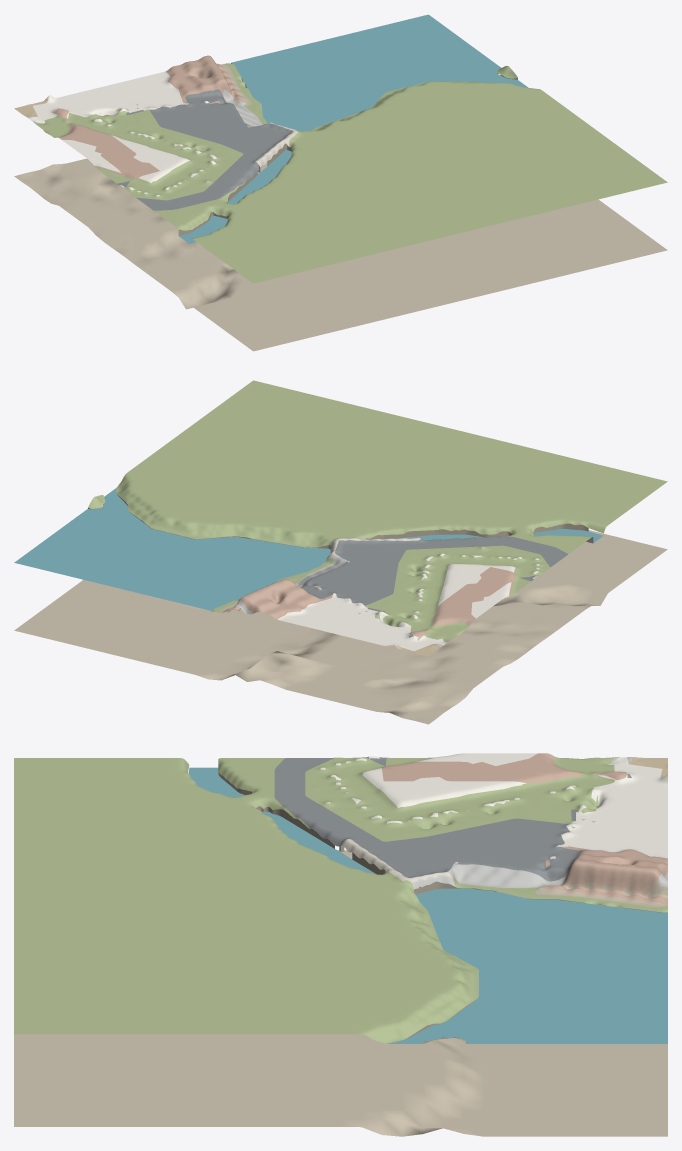
The picture shows the model from 3 angles, top to bottom: view 1: azimuth 30°, elevation 25°; view 2: azimuth 150°, elevation 25°; view 3: azimuth 270°, elevation 25°; orthographic projection. The views are drawn at different scales.
Visible parts, largest first — view 1: s_2_0__grass, s_2_0__soil, s_2_0__water, s_2_0__asphalt, s_2_0__white_marking, s_2_0__brick_paving; view 2: s_2_0__grass, s_2_0__soil, s_2_0__water, s_2_0__asphalt, s_2_0__white_marking, s_2_0__brick_paving, s_2_0__shore_bank, s_2_0__stone_paving; view 3: s_2_0__grass, s_2_0__soil, s_2_0__water, s_2_0__asphalt, s_2_0__white_marking, s_2_0__brick_paving, s_2_0__stone_paving, s_2_0__shore_bank, s_2_0__paving.
Part boxes in pixels (x1,y1,x2,y2): s_2_0__grass: (33,63,667,283); s_2_0__soil: (14,64,667,351); s_2_0__water: (179,14,528,243); s_2_0__asphalt: (58,89,292,210); s_2_0__white_marking: (29,71,216,196); s_2_0__brick_paving: (55,55,243,179); s_2_0__grass: (88,380,667,641); s_2_0__soil: (14,530,667,724); s_2_0__water: (14,488,603,610); s_2_0__asphalt: (301,536,567,637); s_2_0__white_marking: (277,553,539,650); s_2_0__brick_paving: (222,567,515,637); s_2_0__shore_bank: (88,494,593,600); s_2_0__stone_paving: (234,542,447,647); s_2_0__grass: (14,757,667,1043); s_2_0__soil: (14,850,667,1136); s_2_0__water: (188,767,667,1043); s_2_0__asphalt: (274,756,631,881); s_2_0__white_marking: (320,753,667,859); s_2_0__brick_paving: (382,753,667,904); s_2_0__stone_paving: (412,757,667,889); s_2_0__shore_bank: (218,770,658,1043); s_2_0__paving: (326,775,667,883).
Bounding box in the file's own units: 128 × 25.54 × 128.
